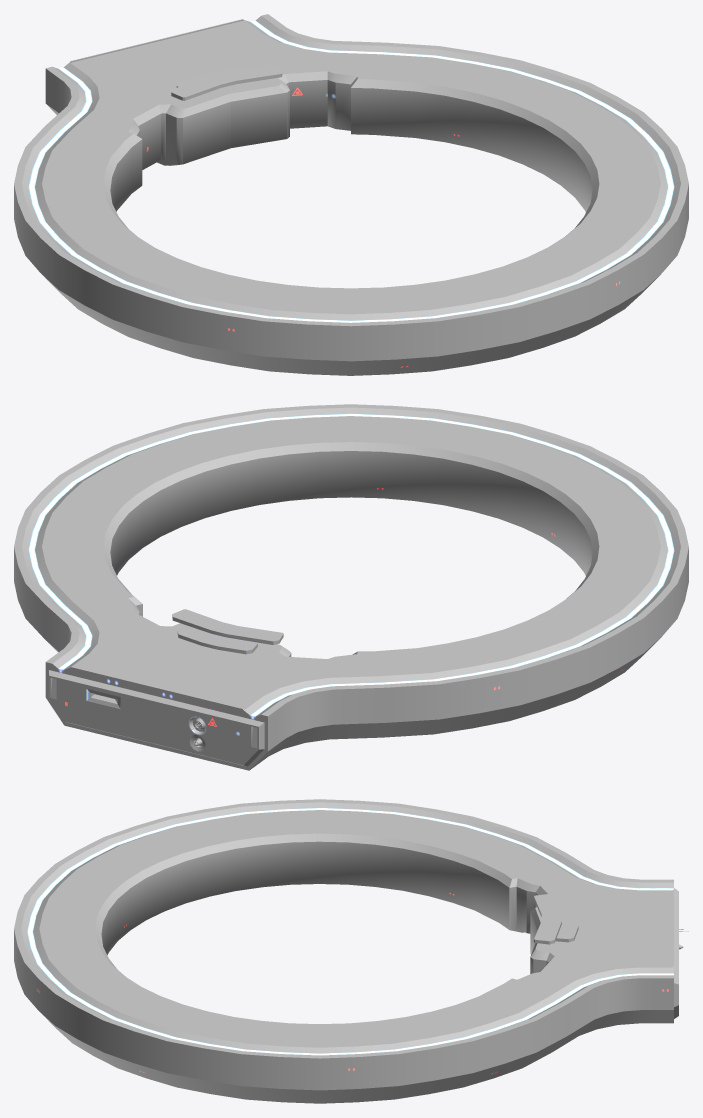
Rendered from StartBase_NoCap.fbx.
3 renders of one model, top to bottom at view 1: azimuth 30°, elevation 25°; view 2: azimuth 150°, elevation 25°; view 3: azimuth 270°, elevation 25°, orthographic. The views are drawn at different scales.
Visible parts, largest first — view 1: StartBase_NoCap; view 2: StartBase_NoCap; view 3: StartBase_NoCap.
Boxes of the visible parts, x1=… form: StartBase_NoCap: x1=14, y1=14, x2=688, y2=375; StartBase_NoCap: x1=14, y1=404, x2=688, y2=770; StartBase_NoCap: x1=14, y1=799, x2=688, y2=1103.
Size of the model in its own units: 6.5 by 0.7559 by 7.15.
